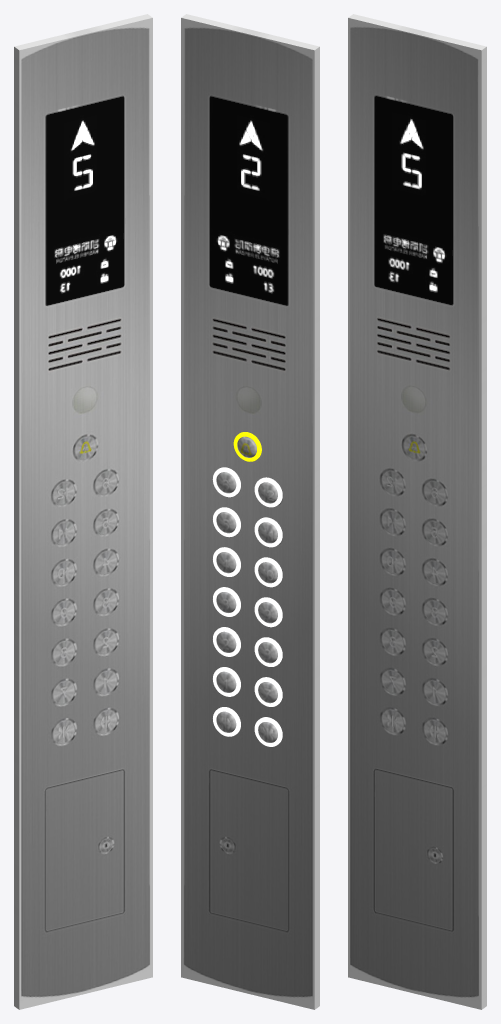
File: cop_HCP10.glb
3 renders of one model, left to right at view 1: azimuth 30°, elevation 25°; view 2: azimuth 150°, elevation 25°; view 3: azimuth 330°, elevation 25°, orthographic.
Parts seen in each view (by area): view 1: COP_Plate; view 2: COP_Plate, COP_Btn_12_Ring, COP_Btn_8_Ring, COP_Btn_10_Ring, COP_Btn_14_Ring, COP_Btn_6_Ring, COP_Btn_13_Ring, COP_Btn_4_Ring, COP_Btn_2_Ring, COP_Btn_5_Ring, COP_Btn_11_Ring, COP_Btn_3_Ring (+12 smaller); view 3: COP_Plate.
Part boxes in pixels (box(x1,y1,x2,y2)): COP_Plate: box(14, 14, 152, 1009); COP_Plate: box(181, 14, 319, 1009); COP_Btn_12_Ring: box(254, 517, 282, 547); COP_Btn_8_Ring: box(254, 597, 282, 627); COP_Btn_10_Ring: box(254, 557, 282, 587); COP_Btn_14_Ring: box(254, 477, 282, 507); COP_Btn_6_Ring: box(254, 637, 282, 666); COP_Btn_13_Ring: box(212, 467, 240, 497); COP_Btn_4_Ring: box(254, 677, 282, 706); COP_Btn_2_Ring: box(254, 717, 282, 746); COP_Btn_5_Ring: box(213, 627, 240, 656); COP_Btn_11_Ring: box(213, 507, 240, 537); COP_Btn_3_Ring: box(213, 667, 240, 696); COP_Plate: box(348, 14, 486, 1009).
Size of the model in its own units: 0.1194 by 0.82 by 0.0117.
4 materials, 2 textured.
